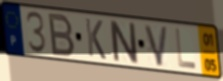3: (25, 10, 48, 55)
B: (48, 12, 77, 59)
K: (84, 16, 108, 62)
L: (174, 27, 199, 71)
N: (108, 19, 141, 66)
V: (142, 23, 170, 69)
